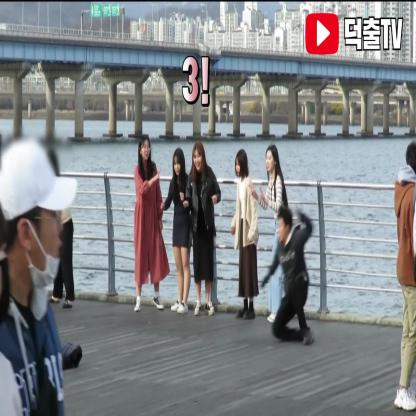Fall_Down: (260, 205, 317, 346)
